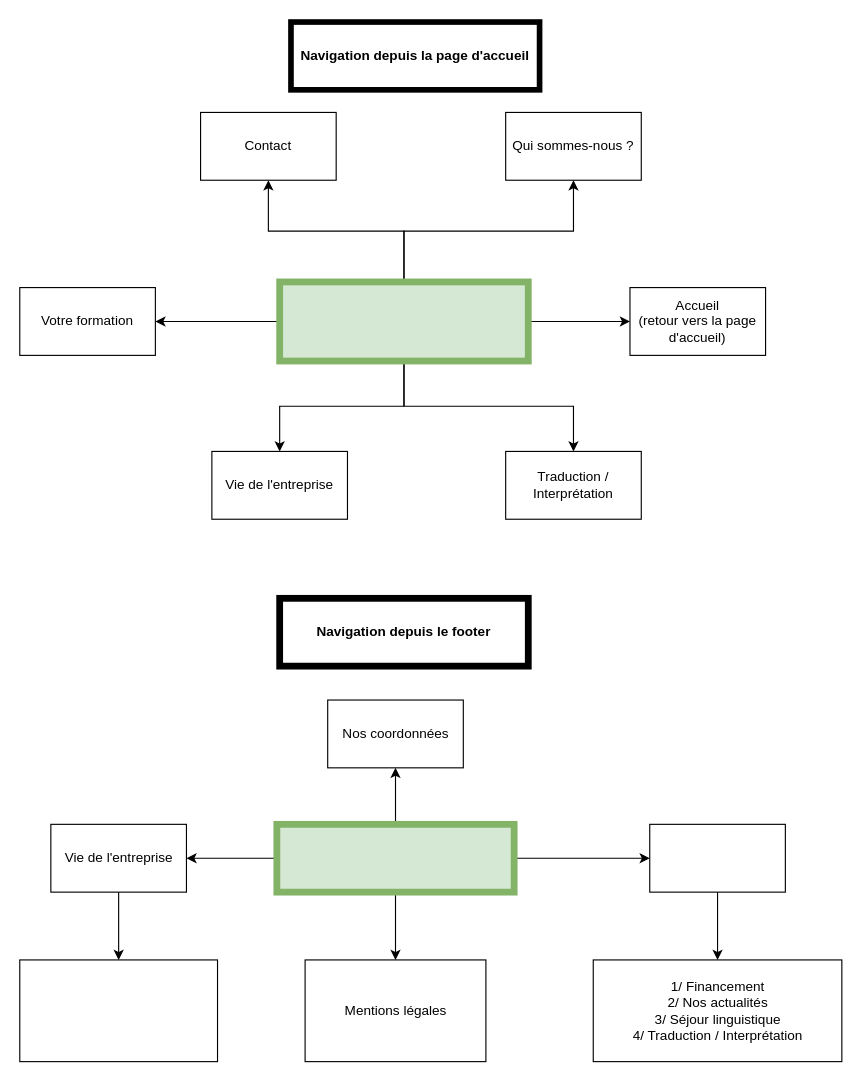
Image size: 862x1081. Some labels were removed from this diagram. The shapes that lost their labels are listed below. From the top down, each one's box as (x1, y1, x2, y2) in pixels, then its label:
(276, 278, 531, 364): La barre de navigation
(273, 820, 517, 895): Le footer
(649, 823, 785, 892): Nos prestations
(19, 959, 218, 1062): 1/ Nos actualités 2/ Témoignages 3/ Réseaux sociaux 4/ Newsletter
